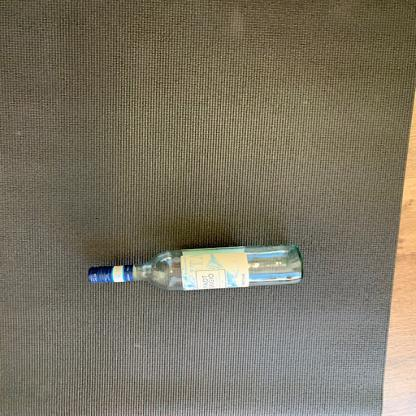trash: (88, 243, 313, 298)
